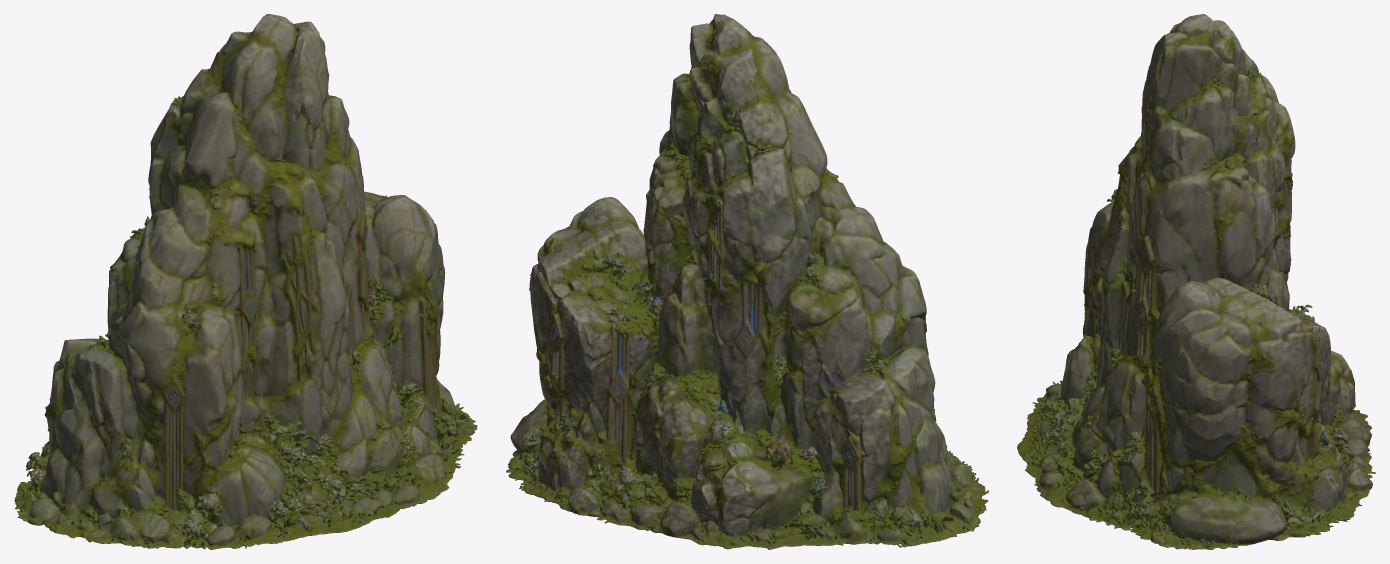
File: Meshy_AI_large_hero_boulder_a_0823024930_image-to-3d-texture.glb
The picture shows the model from 3 angles, left to right: view 1: azimuth 30°, elevation 25°; view 2: azimuth 150°, elevation 25°; view 3: azimuth 270°, elevation 25°; orthographic projection.
Parts seen in each view (by area): view 1: mesh_node; view 2: mesh_node; view 3: mesh_node.
Boxes of the visible parts, x1,y1,x2,y2 form: mesh_node: (14,14,477,549); mesh_node: (506,14,988,549); mesh_node: (1017,14,1375,549).
Bounding box in the file's own units: 1.9 × 1.82 × 1.34.
1 material, 1 textured.
